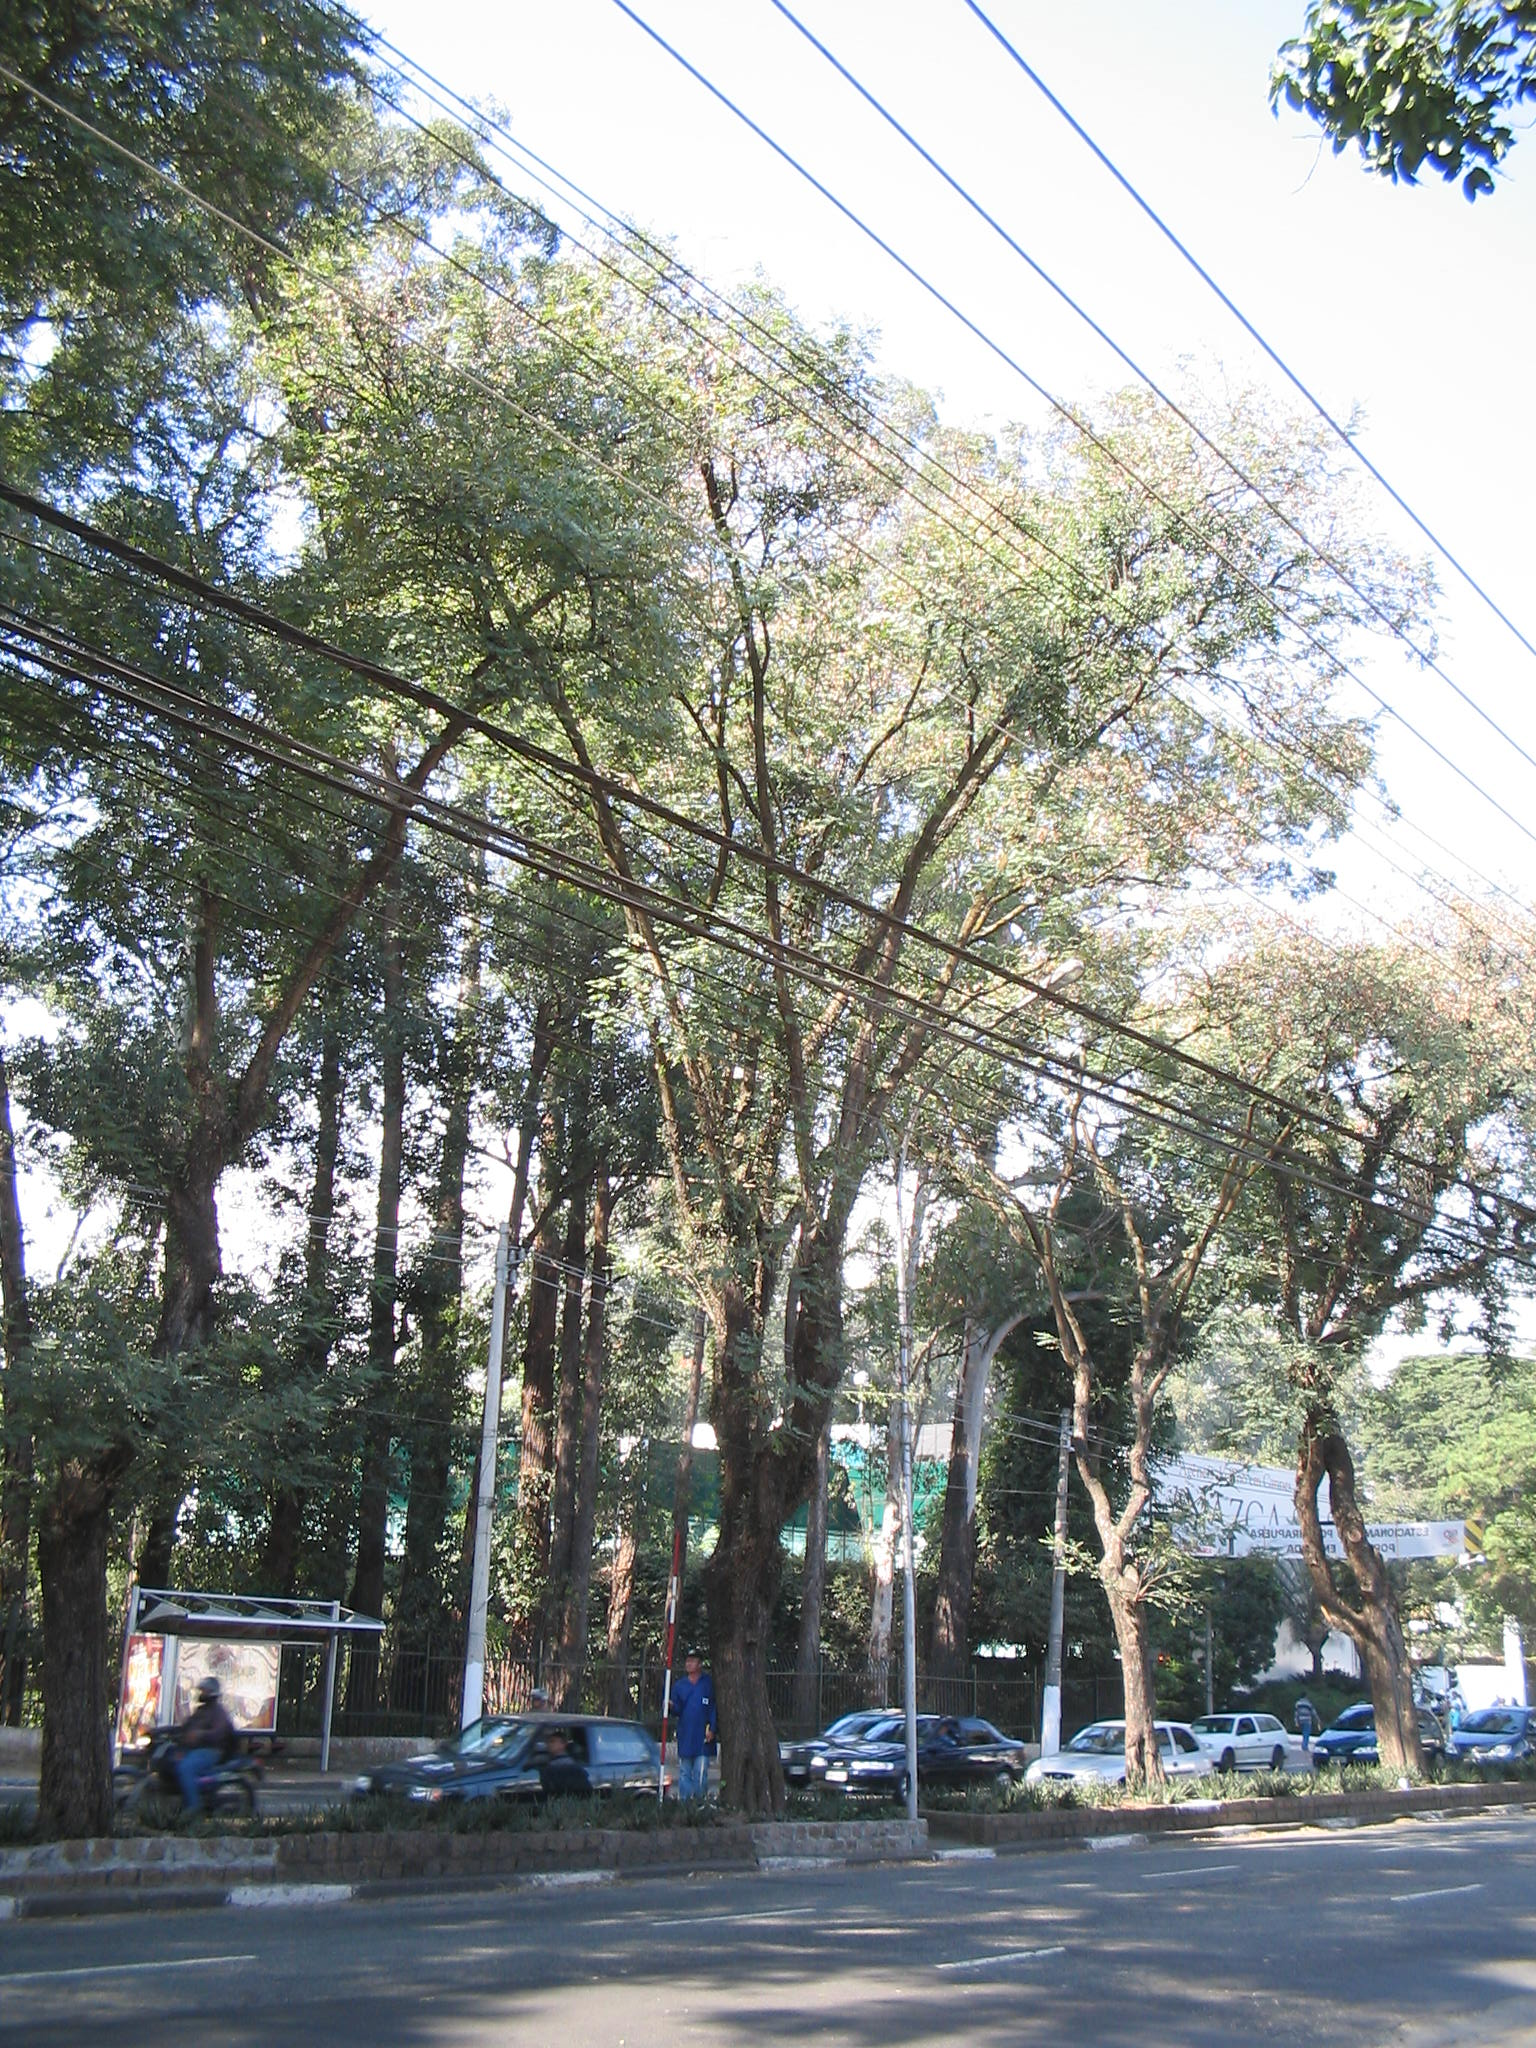crown: (310, 261, 1433, 984), (1073, 903, 1528, 1387)
stem: (699, 1453, 824, 1816), (1339, 1621, 1449, 1784)
stick: (639, 1529, 694, 1817)
tree: (295, 245, 1436, 1821), (1066, 890, 1531, 1784)
